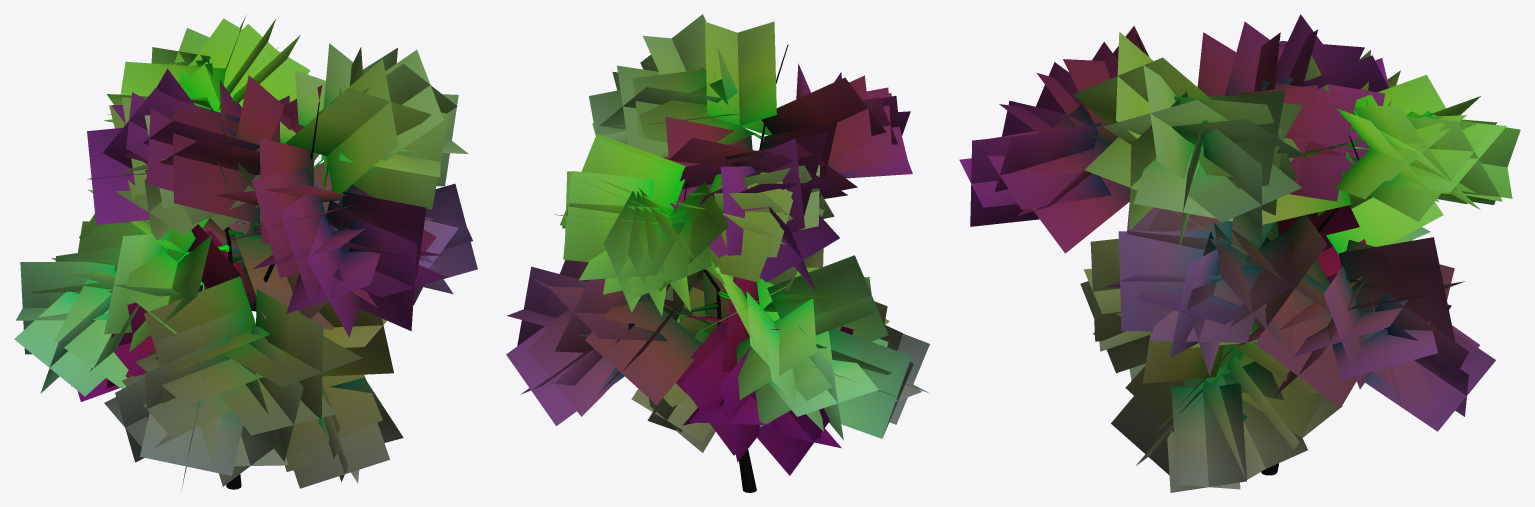
Rendered from URP_P14_Tree_7_LOD_2.fbx.
The picture shows the model from 3 angles, left to right: view 1: azimuth 30°, elevation 25°; view 2: azimuth 150°, elevation 25°; view 3: azimuth 270°, elevation 25°; orthographic projection. The views are drawn at different scales.
Visible parts, largest first — view 1: Tree_7_LOD_2; view 2: Tree_7_LOD_2; view 3: Tree_7_LOD_2.
Boxes of the visible parts, bbox=[...] form: Tree_7_LOD_2: bbox=[14, 16, 477, 489]; Tree_7_LOD_2: bbox=[506, 14, 929, 492]; Tree_7_LOD_2: bbox=[959, 14, 1520, 492].
Size of the model in its own units: 419 by 449 by 491.
